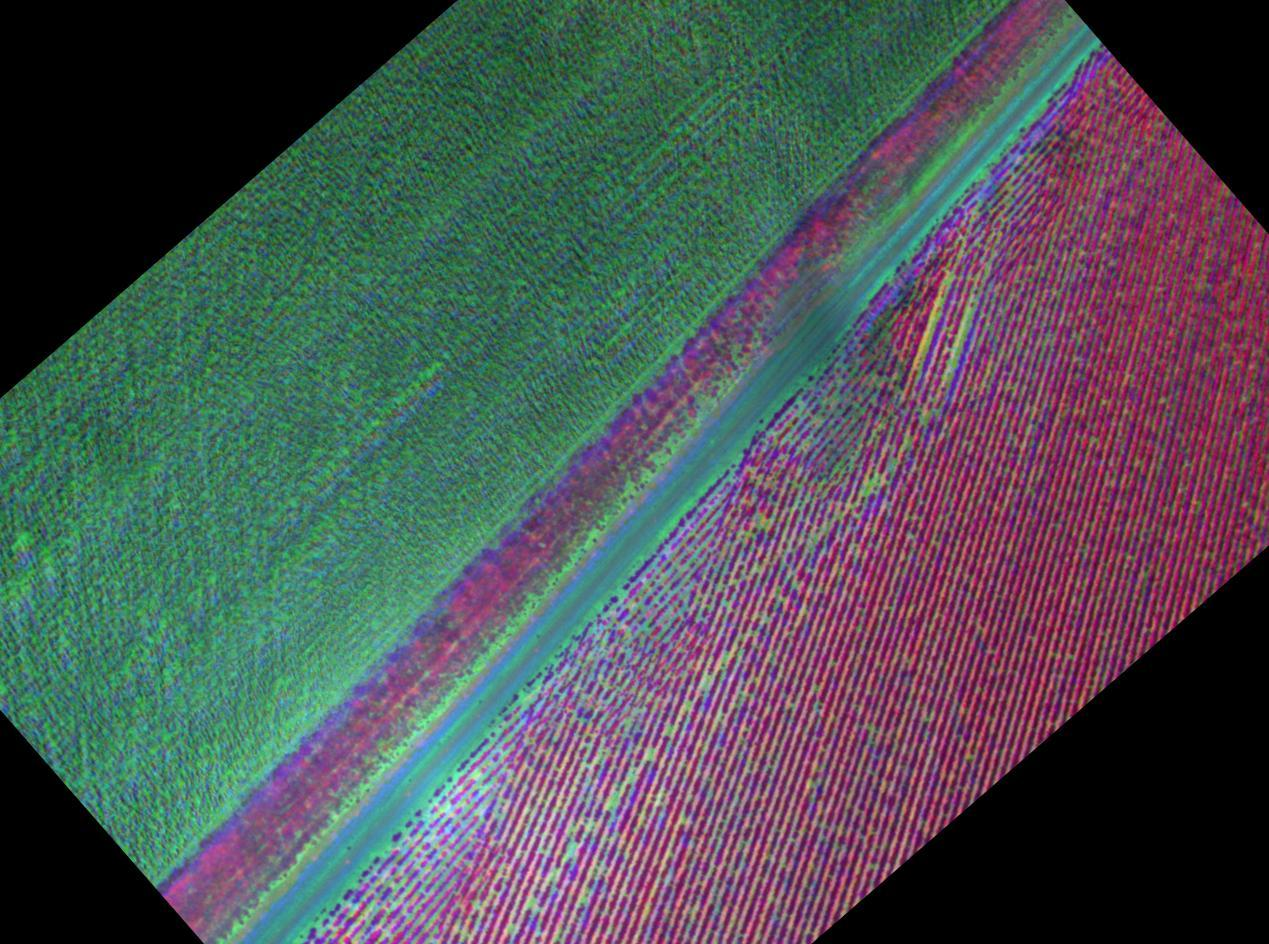dc: (923, 348, 929, 355), (966, 311, 972, 317), (955, 345, 961, 351), (663, 614, 668, 619), (666, 728, 671, 733), (679, 818, 684, 823), (569, 849, 574, 854), (865, 485, 869, 490), (406, 888, 410, 892), (351, 905, 355, 909), (766, 523, 768, 526)
